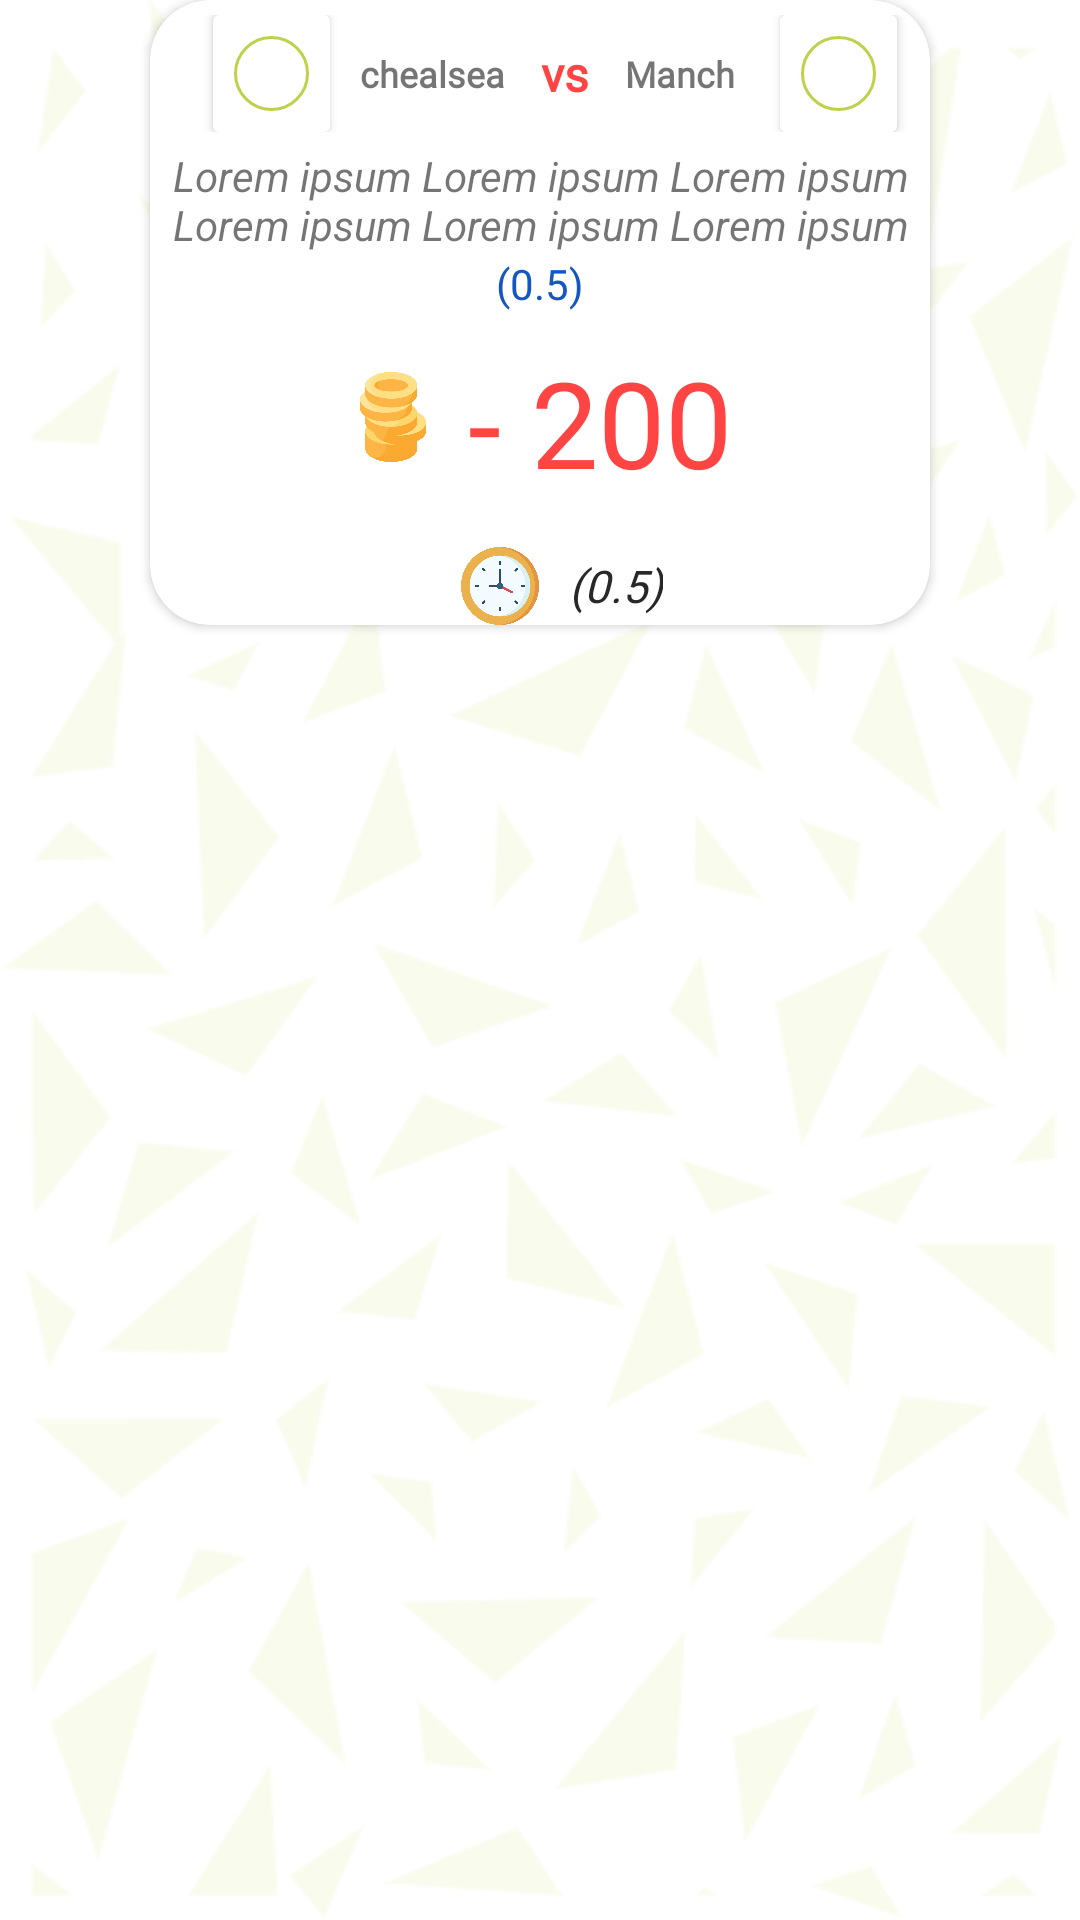

Icons on this 1080x1920 Android screen, each with its box as (x1, y1, x2, y2):
clock: (461, 547, 539, 625)
token: (360, 372, 426, 462)
